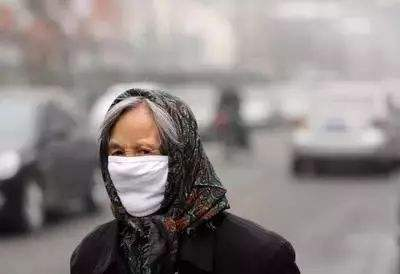mask: (106, 114, 172, 219)
